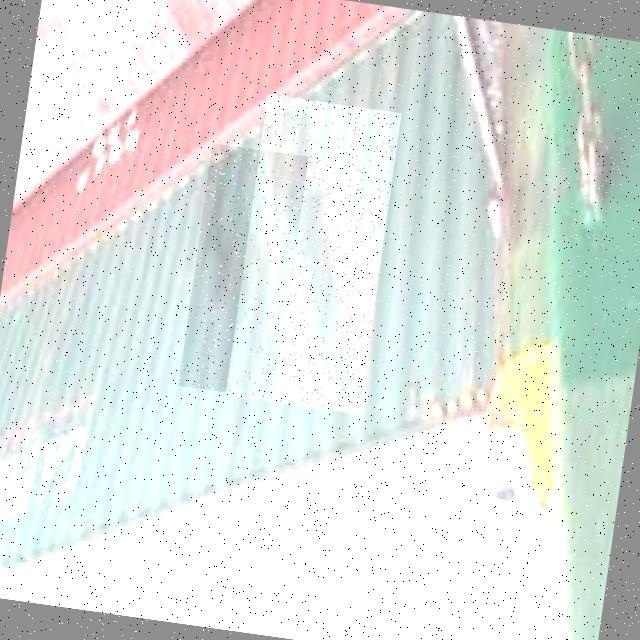Dent: (226, 95, 402, 415), (179, 144, 309, 400)
